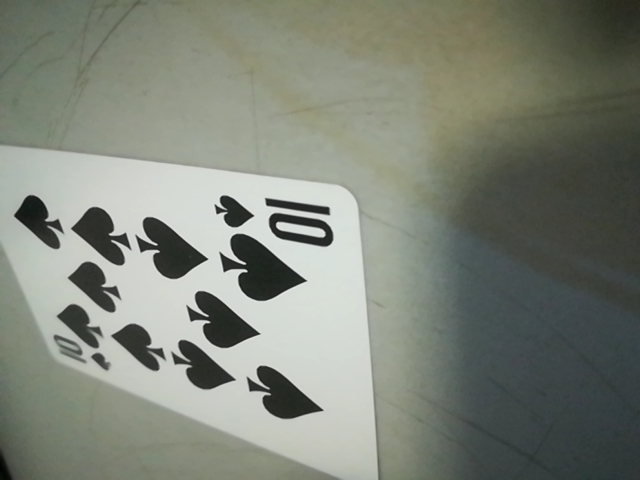ht 10: (216, 186, 348, 259)
